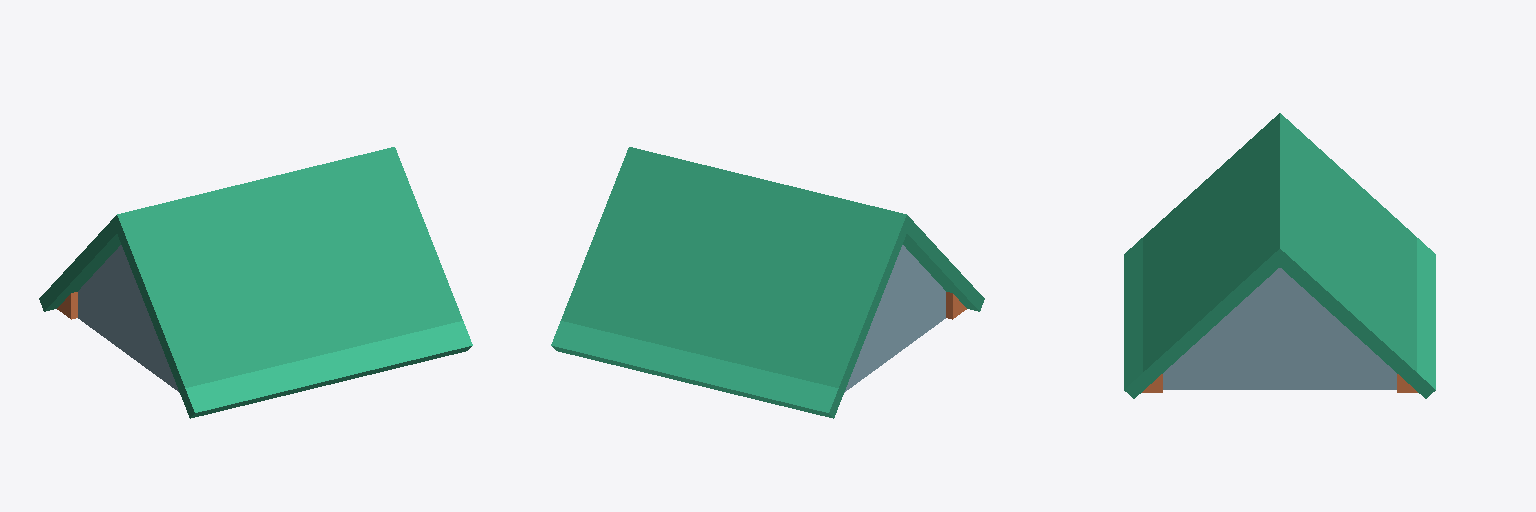
Rendered from roofGable.obj.
The picture shows the model from 3 angles: view 1: azimuth 30°, elevation 25°; view 2: azimuth 150°, elevation 25°; view 3: azimuth 270°, elevation 25°; orthographic projection.
Visible parts, largest first — view 1: roofGable; view 2: roofGable; view 3: roofGable.
Part boxes in pixels (bbox=[...]): roofGable: bbox=[39, 147, 472, 418]; roofGable: bbox=[551, 147, 984, 418]; roofGable: bbox=[1124, 113, 1435, 398].
Bounding box in the file's own units: 1.1 × 0.571 × 1.07.